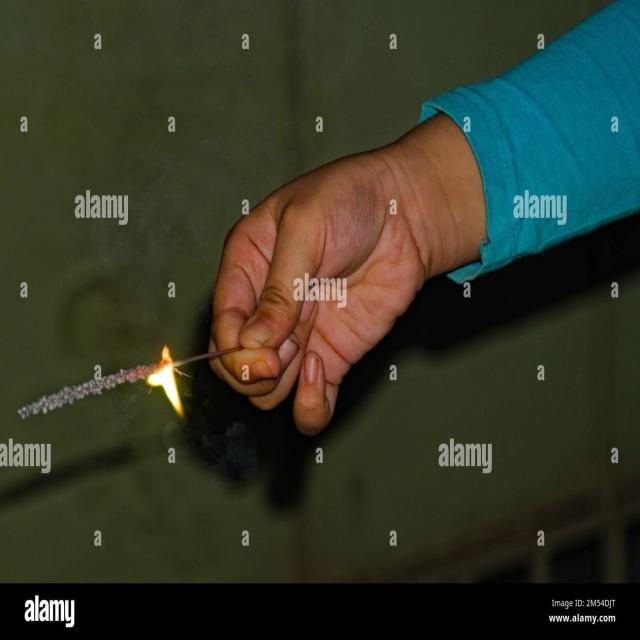fire: (145, 343, 184, 418)
